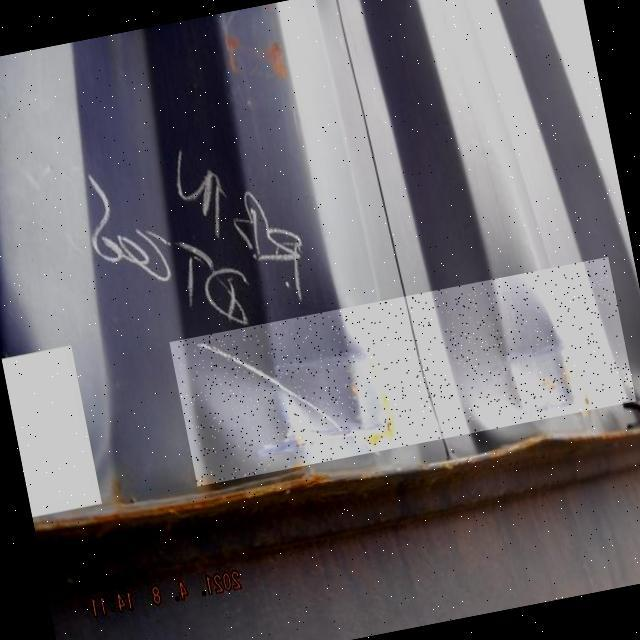Minor-Dent: (170, 257, 637, 487)
